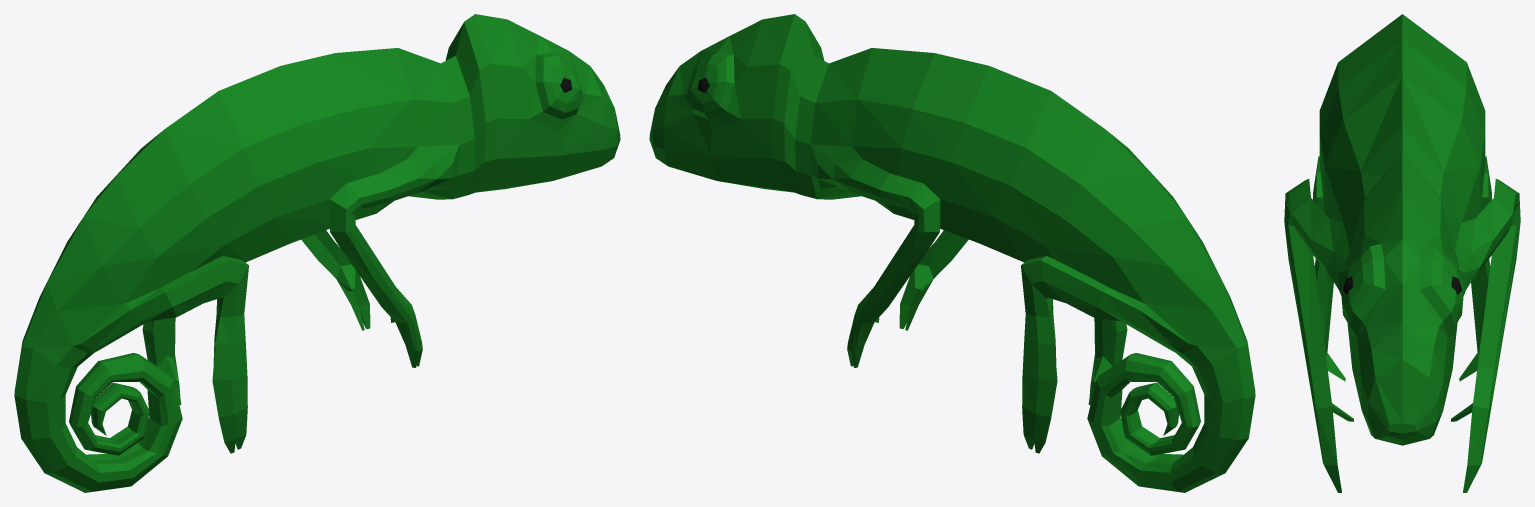
Rendered from Chameleon.fbx.
3 renders of one model, left to right at view 1: azimuth 30°, elevation 25°; view 2: azimuth 150°, elevation 25°; view 3: azimuth 270°, elevation 25°, orthographic. The views are drawn at different scales.
Visible parts, largest first — view 1: Chameleon; view 2: Chameleon; view 3: Chameleon.
Boxes of the visible parts, x1,y1,x2,y2 form: Chameleon: (14,14,620,492); Chameleon: (649,14,1255,492); Chameleon: (1284,14,1520,492).
Bounding box in the file's own units: 291 × 180 × 79.85.
